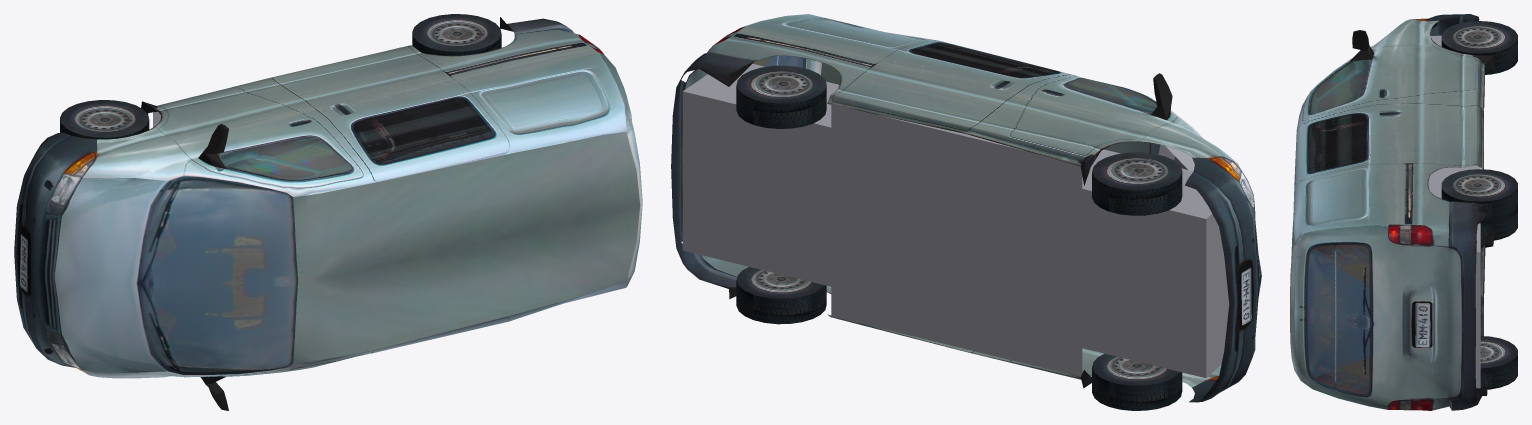
Rendered from Car_04.obj.
3 renders of one model, left to right at view 1: azimuth 30°, elevation 25°; view 2: azimuth 150°, elevation 25°; view 3: azimuth 270°, elevation 25°, orthographic. The views are drawn at different scales.
Visible parts, largest first — view 1: _4body, _4tyres, _4tyresurf; view 2: _4fill, _4body, _4tyresurf, _4tyres, _4plates; view 3: _4body, _4tyres, _4tyresurf, _4fill, _4plates.
Part boxes in pixels (x1=…): _4body: x1=14, y1=17, x2=642, y2=410; _4tyres: x1=60, y1=14, x2=501, y2=137; _4tyresurf: x1=60, y1=33, x2=501, y2=139; _4fill: x1=682, y1=63, x2=1229, y2=378; _4body: x1=671, y1=14, x2=1261, y2=402; _4tyresurf: x1=736, y1=85, x2=1182, y2=410; _4tyres: x1=736, y1=65, x2=1182, y2=385; _4plates: x1=1241, y1=268, x2=1251, y2=325; _4body: x1=1290, y1=14, x2=1494, y2=410; _4tyres: x1=1441, y1=21, x2=1517, y2=368; _4tyresurf: x1=1441, y1=40, x2=1517, y2=389; _4fill: x1=1428, y1=35, x2=1480, y2=388; _4plates: x1=1415, y1=302, x2=1430, y2=347.
Bounding box in the file's own units: 4.47 × 2.17 × 1.83.
